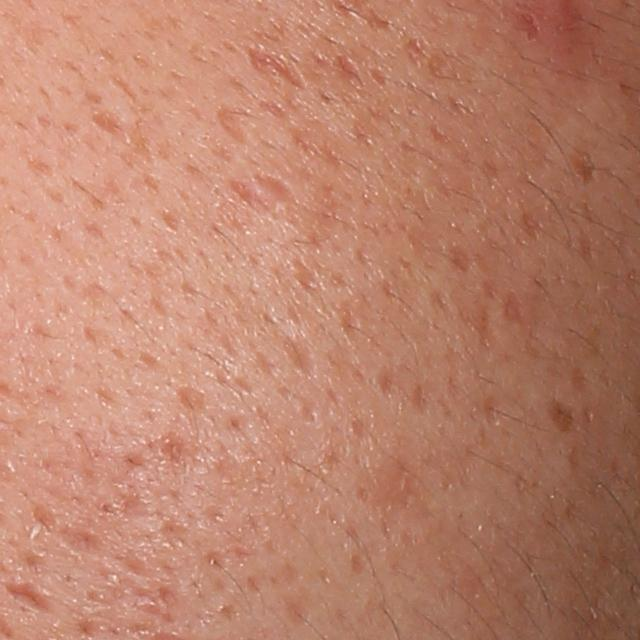atrophic_scar: (88, 111, 151, 167), (248, 42, 301, 88), (54, 520, 105, 561), (280, 334, 319, 377), (4, 582, 47, 613), (216, 104, 248, 144), (258, 175, 297, 206), (481, 390, 503, 431), (178, 385, 207, 415), (505, 289, 526, 321)
